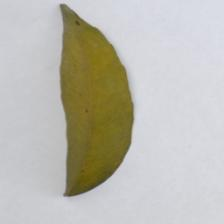greening: (54, 40, 137, 136)
